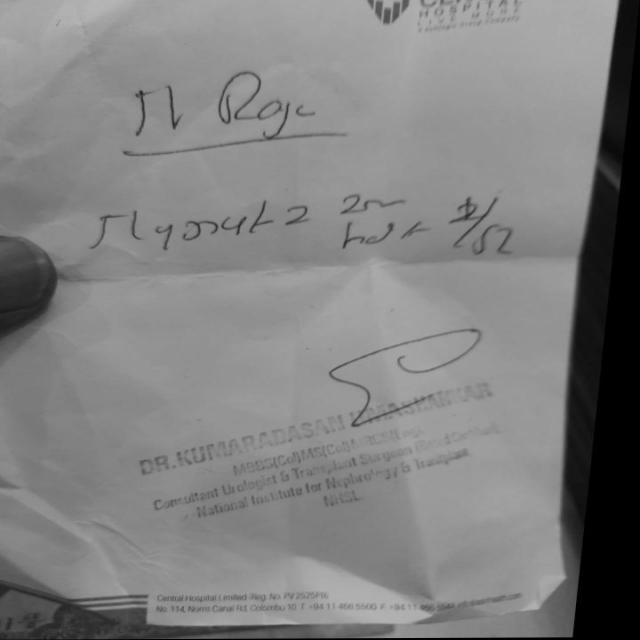Prescription: (89, 188, 526, 264)
